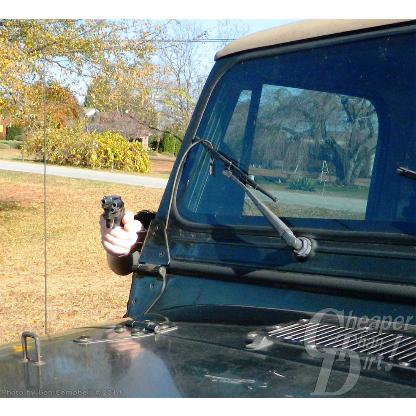gun: (93, 190, 133, 248)
